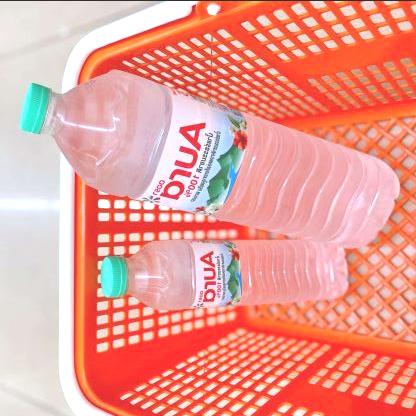bottle: (17, 73, 404, 249), (100, 230, 354, 314)
